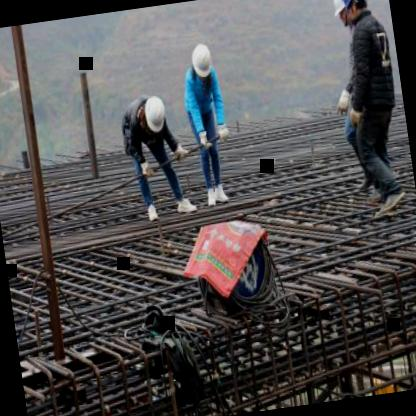helmet: (187, 34, 218, 84), (139, 90, 170, 134), (337, 0, 371, 23), (331, 0, 353, 30)
